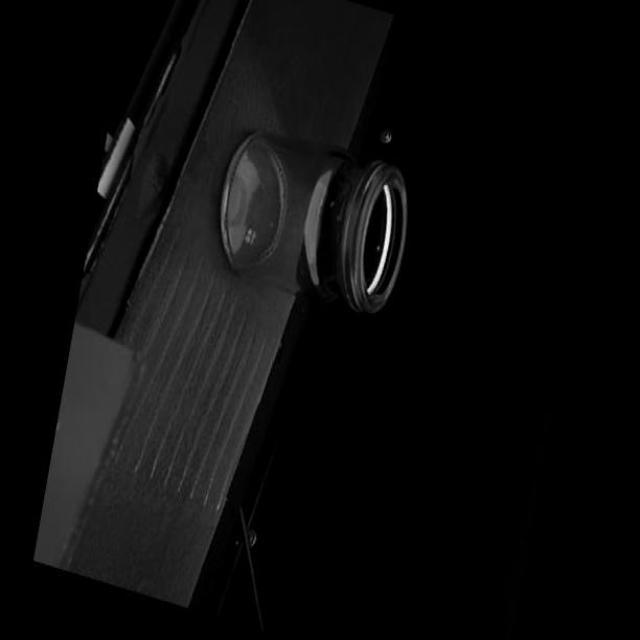defect: (318, 186, 325, 207)
glass: (205, 110, 417, 328)
